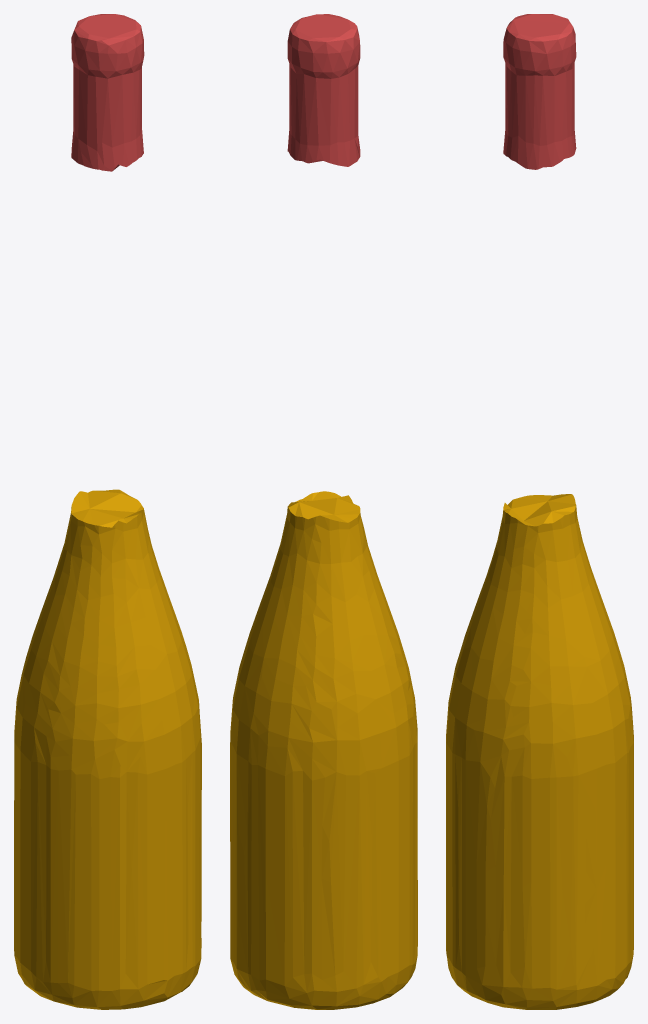
The model's file is mode_1_2pcs_transformed.glb.
The picture shows the model from 3 angles, left to right: view 1: azimuth 30°, elevation 25°; view 2: azimuth 150°, elevation 25°; view 3: azimuth 270°, elevation 25°; orthographic projection.
Visible parts, largest first — view 1: piece_0.obj, piece_1.obj; view 2: piece_0.obj, piece_1.obj; view 3: piece_0.obj, piece_1.obj.
Part boxes in pixels (left/top/right/bottom): piece_0.obj: left=14, top=489, right=201, bottom=1009; piece_1.obj: left=71, top=14, right=144, bottom=171; piece_0.obj: left=230, top=491, right=417, bottom=1009; piece_1.obj: left=287, top=14, right=360, bottom=166; piece_0.obj: left=446, top=494, right=633, bottom=1009; piece_1.obj: left=503, top=14, right=576, bottom=169.
Bounding box in the file's own units: 0.2867 × 1.6 × 0.2866.
